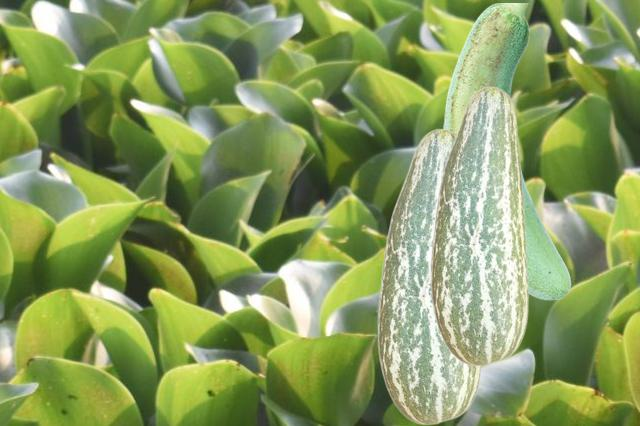cucumber: (443, 3, 570, 299), (377, 128, 481, 424), (430, 86, 528, 365)
